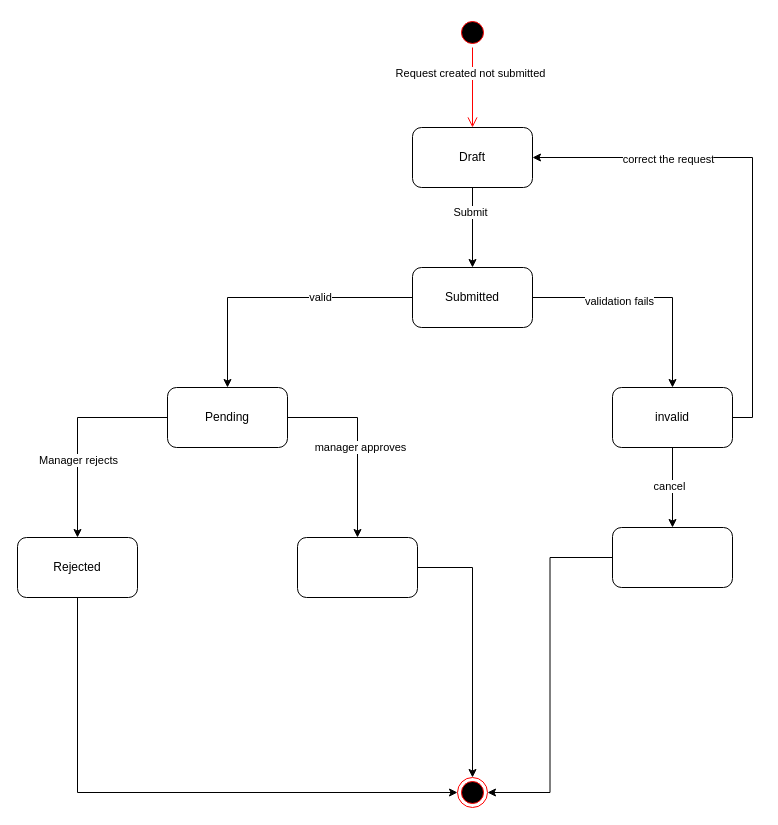
The diagram is 778 pixels wide and 825 high, and some of its shapes have lost their labels. The centre of each missing label's shape, as x and y in pixels:
"Approved" belongs at point (357, 567).
"Canceled" belongs at point (672, 557).
